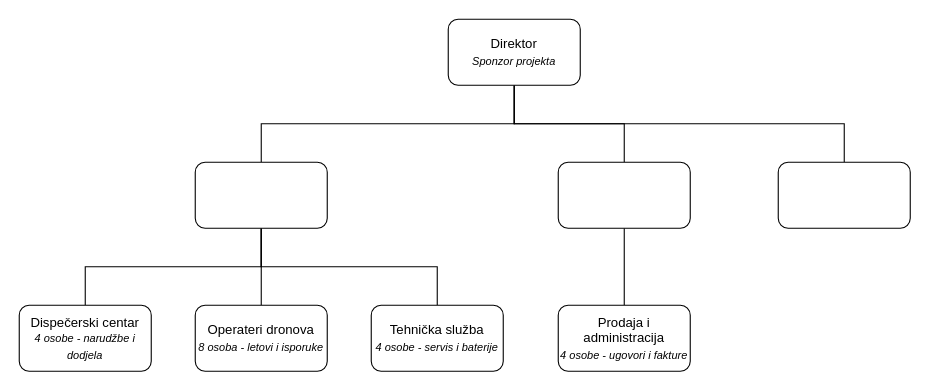
The diagram is 930 pixels wide and 391 high, and some of its shapes have lost their labels. Each missing label, with the centre of its shape:
Finansijski menadžer Finansije, prodaja, ugovori: point 623,194
IT podrška 2 osobe - nalozi, mreža, API: point 843,194
Operativni menadžer Vlasnik procesa dostave: point 260,194
